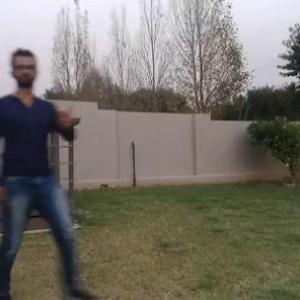takeoff-hand: (54, 96, 76, 128)
